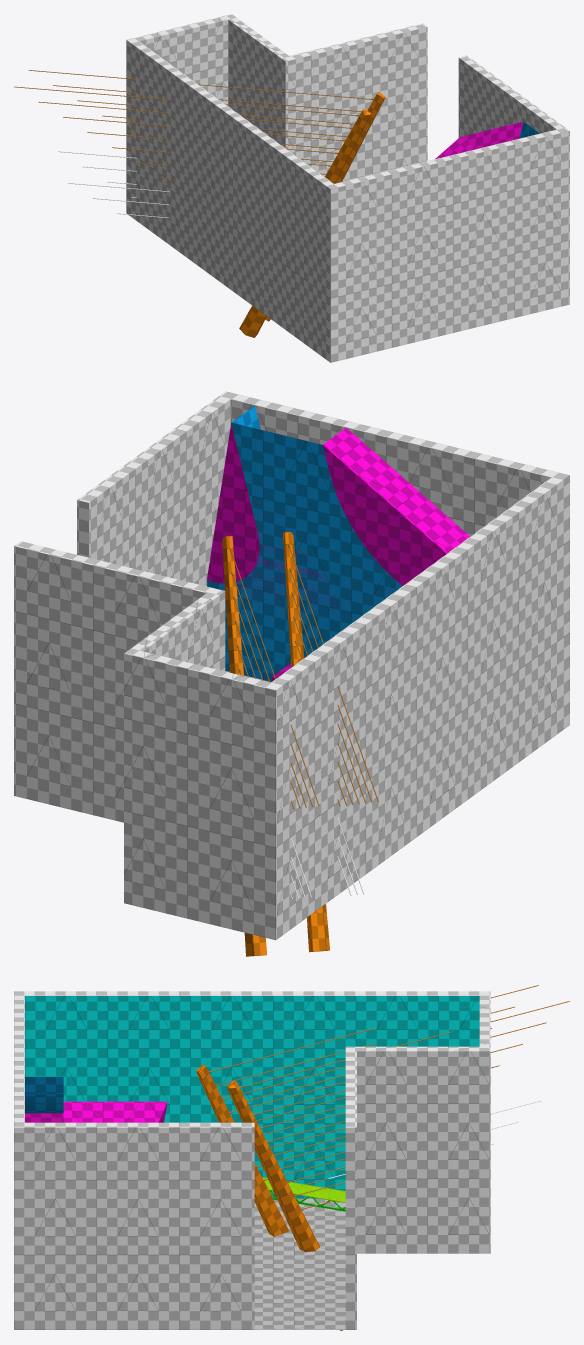
Rendered from space.dae.
3 renders of one model, top to bottom at view 1: azimuth 30°, elevation 25°; view 2: azimuth 150°, elevation 25°; view 3: azimuth 270°, elevation 25°, orthographic. The views are drawn at different scales.
Visible parts, largest first — view 1: Walls, Scaled_Pylon (×2), Calibration_mesh; view 2: Walls, Space_bridgepart01, Calibration_mesh, Scaled_Pylon (×2); view 3: Walls, View_Projection, Floor, Scaled_Pylon (×2), Calibration_mesh, Space_bridgepart01, ApproachDeck.
Boxes of the visible parts, x1=… form: Walls: x1=126, y1=14, x2=569, y2=362; Scaled_Pylon (×2): x1=239, y1=92, x2=385, y2=337; Calibration_mesh: x1=435, y1=122, x2=523, y2=158; Walls: x1=14, y1=391, x2=569, y2=940; Space_bridgepart01: x1=207, y1=405, x2=402, y2=681; Calibration_mesh: x1=207, y1=423, x2=469, y2=680; Scaled_Pylon (×2): x1=222, y1=532, x2=329, y2=956; Walls: x1=14, y1=991, x2=490, y2=1329; View_Projection: x1=25, y1=996, x2=479, y2=1198; Floor: x1=254, y1=1198, x2=345, y2=1329; Scaled_Pylon (×2): x1=196, y1=1065, x2=342, y2=1330; Calibration_mesh: x1=25, y1=1101, x2=167, y2=1122; Space_bridgepart01: x1=25, y1=1077, x2=63, y2=1113; ApproachDeck: x1=262, y1=1177, x2=345, y2=1202.
Size of the model in its own units: 212 by 265 by 154.
11 materials, 10 textured.
